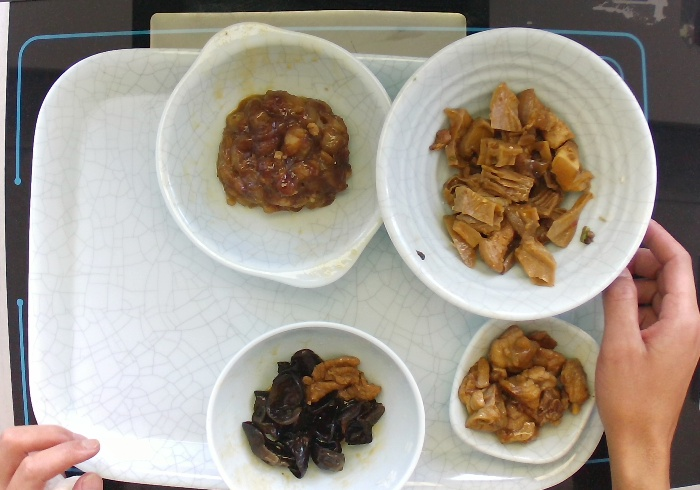JYsf-Fan_Wan: (196, 318, 431, 487)
JYsf-Shuang_Er_Wan: (150, 19, 405, 296)
JYsf-Si_Fang_Die: (442, 307, 609, 469)
JYsf-Xiao_Tang_Wan: (371, 24, 664, 329)
